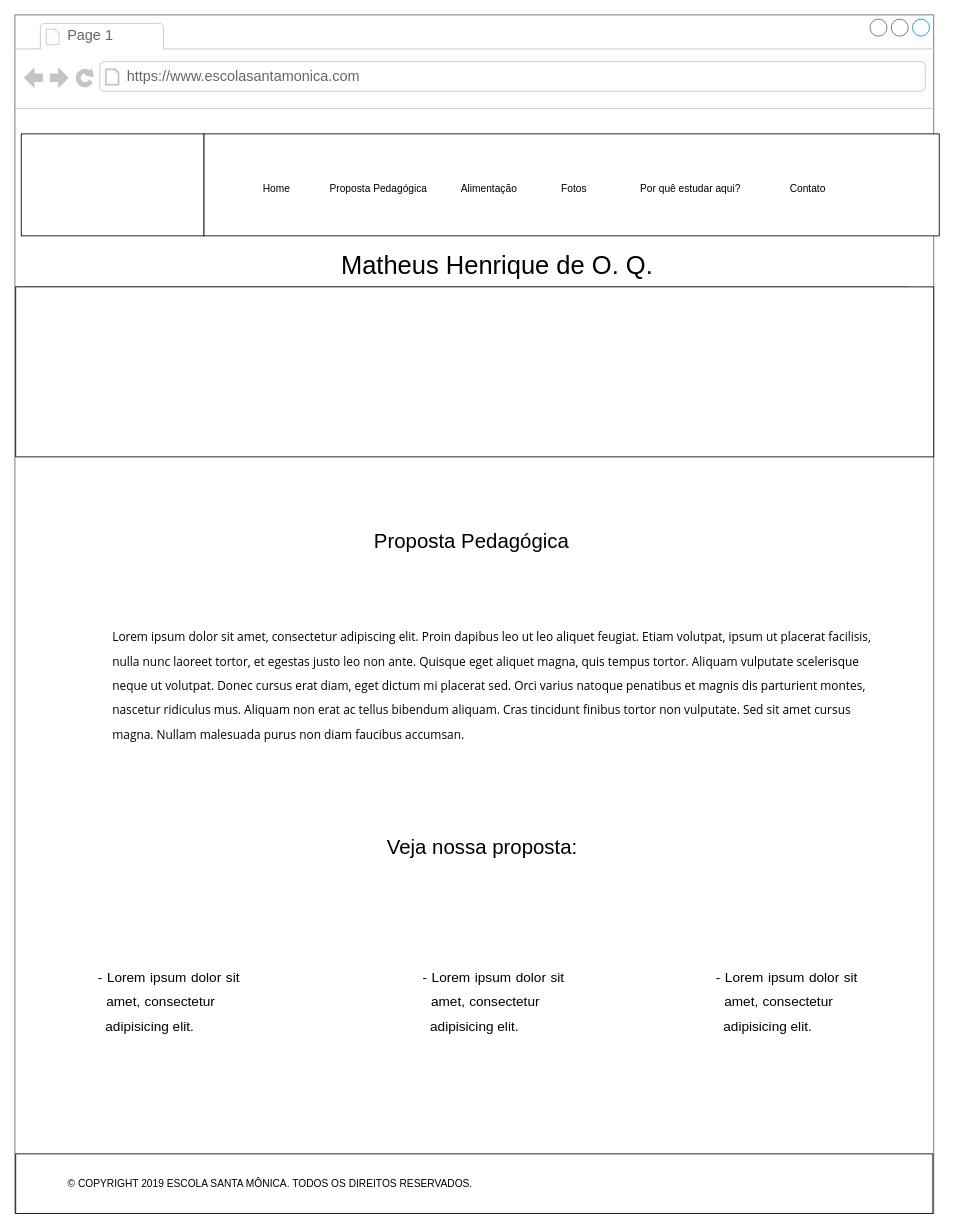
The diagram is 955 pixels wide and 1228 high, and some of its shapes have lost their labels. Here are the shapes that lost their labels. From the top down, the centre of each, then its label:
At (112,184): "Logo".
At (474,371): "Imagem".
